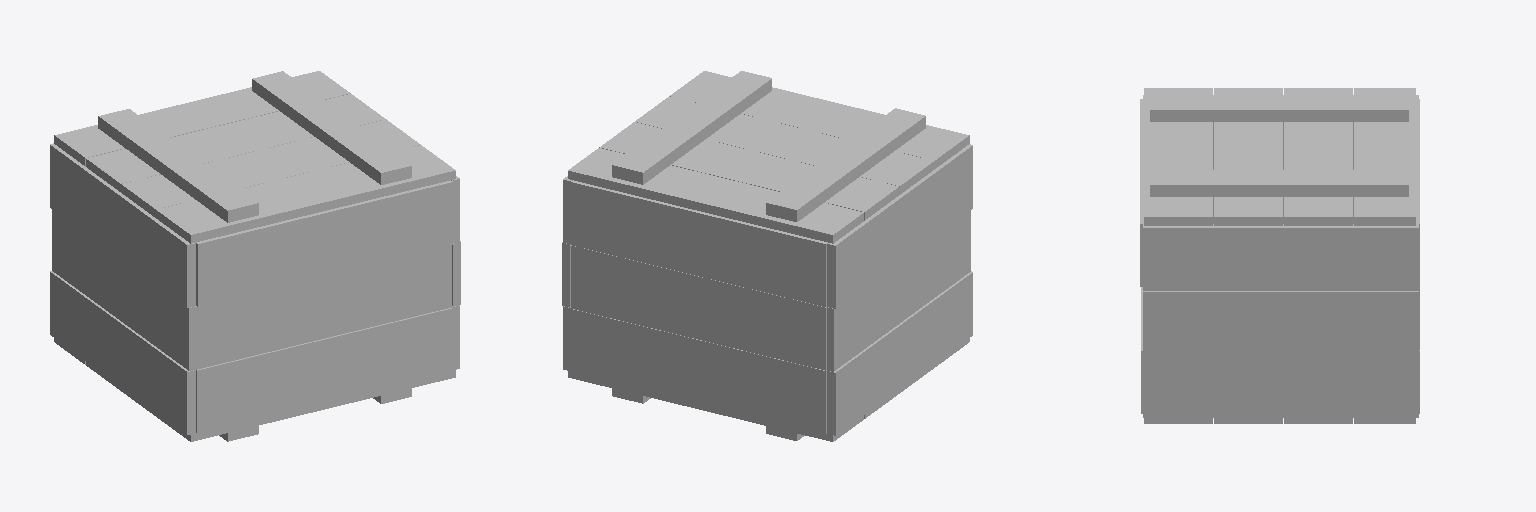
Rendered from WoodenBox.obj.
The picture shows the model from 3 angles: view 1: azimuth 30°, elevation 25°; view 2: azimuth 150°, elevation 25°; view 3: azimuth 270°, elevation 25°; orthographic projection.
Size of the model in its own units: 3.16 by 2.54 by 2.8.